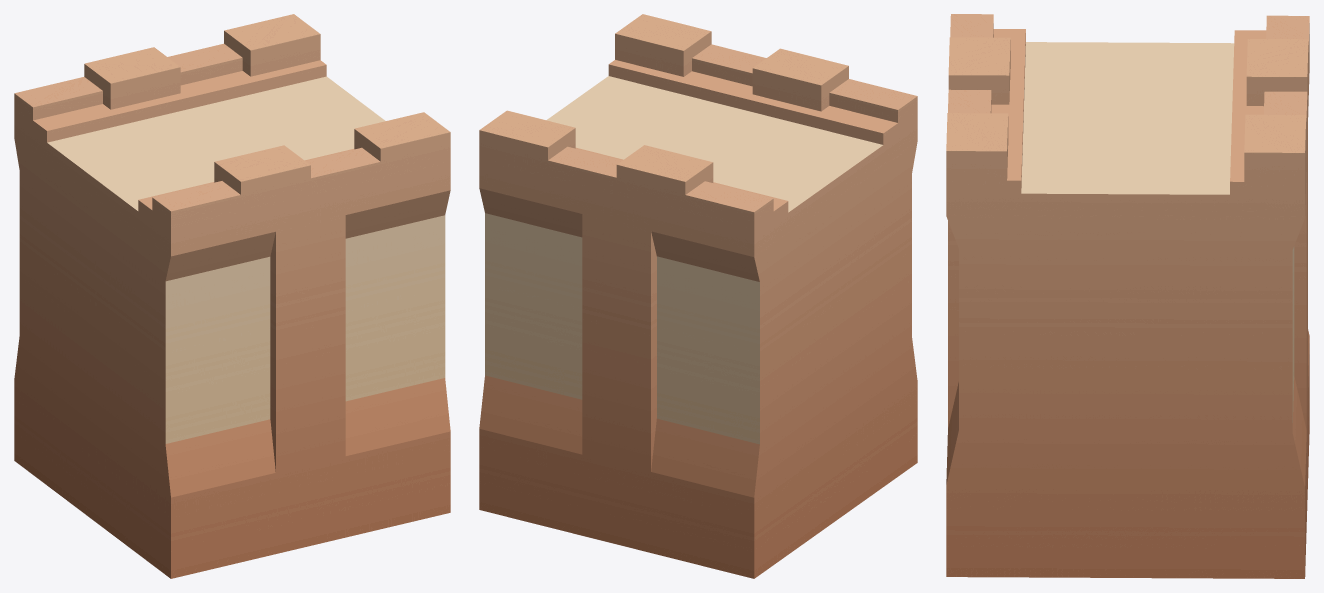
File: wall-pillar.032_lev3.glb
3 views of the same model, side by side, from view 1: azimuth 30°, elevation 25°; view 2: azimuth 150°, elevation 25°; view 3: azimuth 270°, elevation 25° (orthographic). The views are drawn at different scales.
Parts seen in each view (by area): view 1: wall-pillar.032_lev3; view 2: wall-pillar.032_lev3; view 3: wall-pillar.032_lev3.
Boxes of the visible parts, x1,y1,x2,y2 form: wall-pillar.032_lev3: (14, 14, 450, 578); wall-pillar.032_lev3: (479, 14, 917, 578); wall-pillar.032_lev3: (946, 14, 1309, 578).
Bounding box in the file's own units: 6.02 × 7.78 × 6.02.
Materials: 1 (1 with a texture image).
